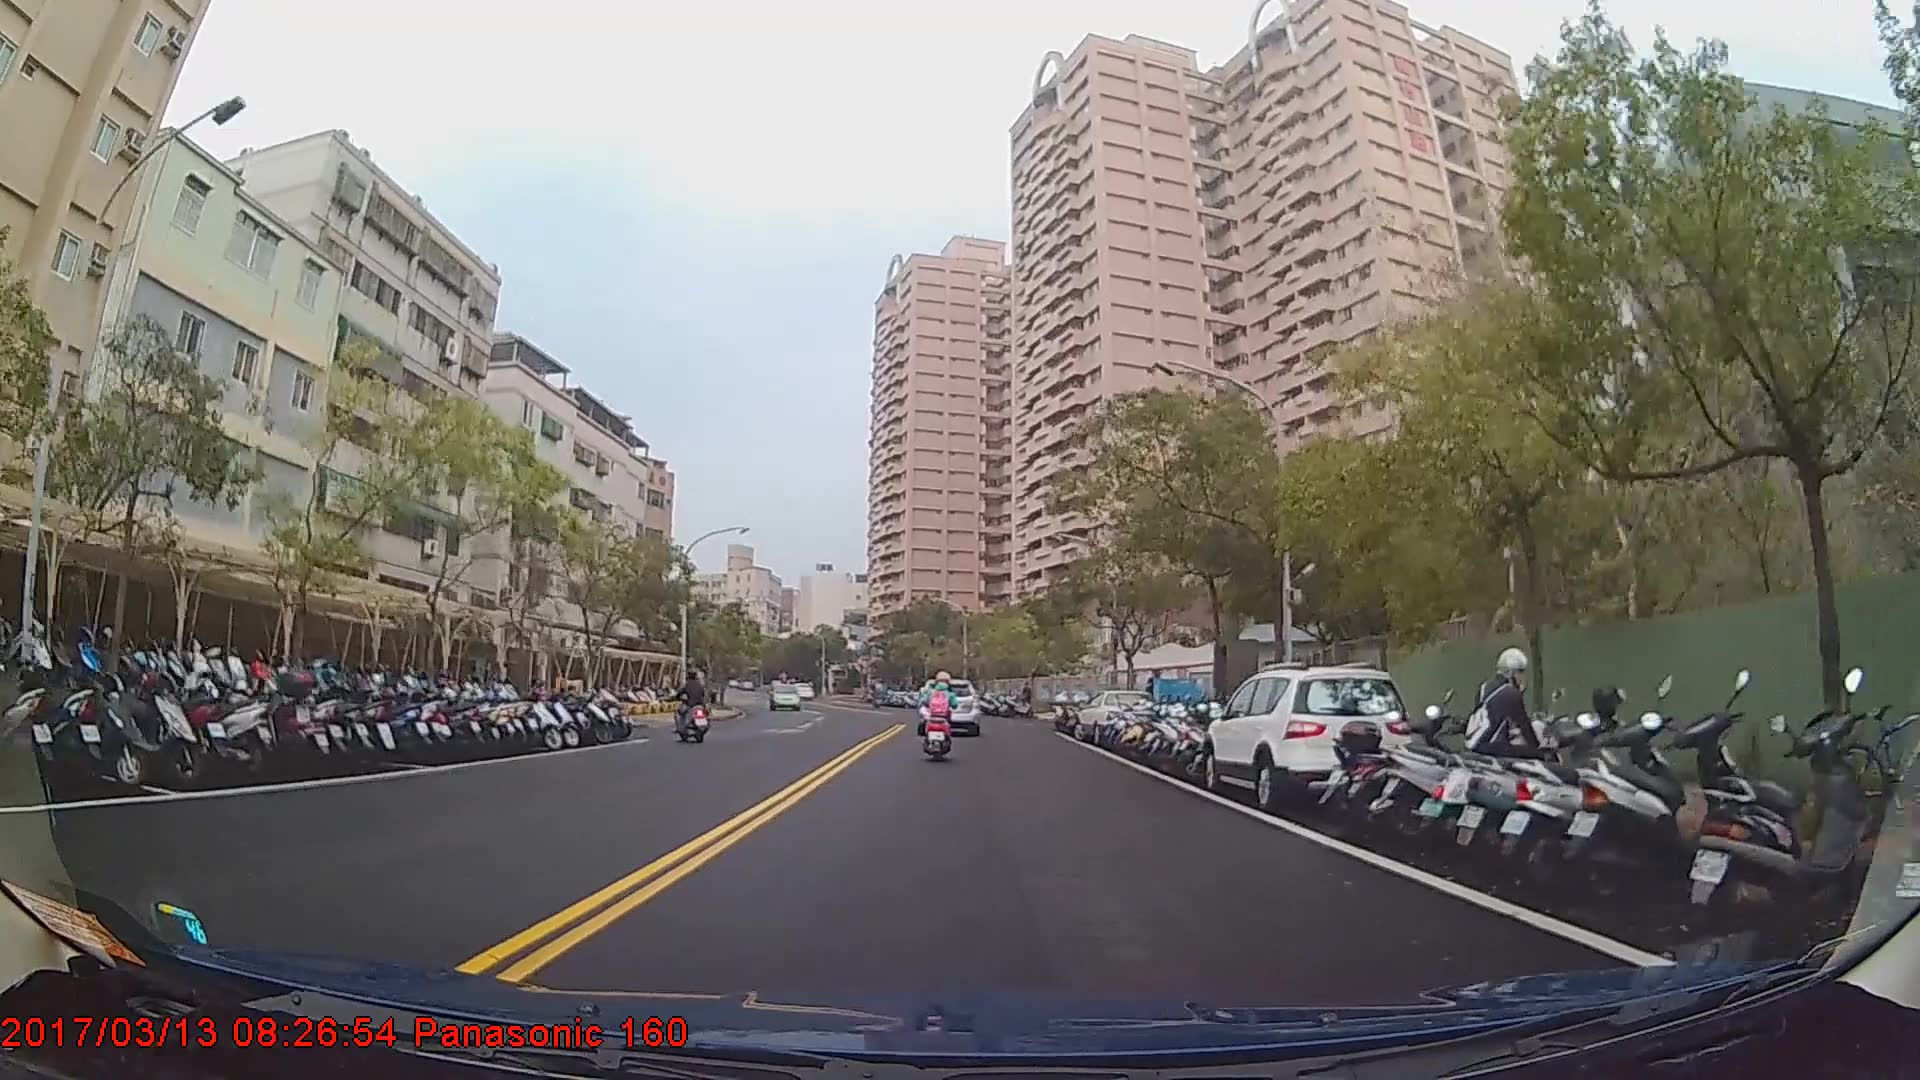rider: (919, 665, 960, 766), (674, 666, 711, 743)
vehicle: (1199, 666, 1410, 811), (1071, 686, 1158, 747), (915, 675, 977, 732), (766, 682, 801, 709)
